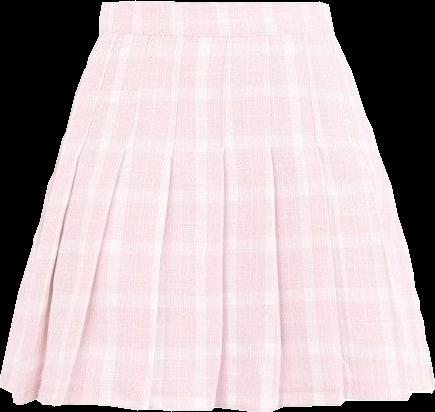Hemline: (0, 384, 434, 411)
Waistline: (97, 30, 336, 39), (100, 0, 328, 7)
